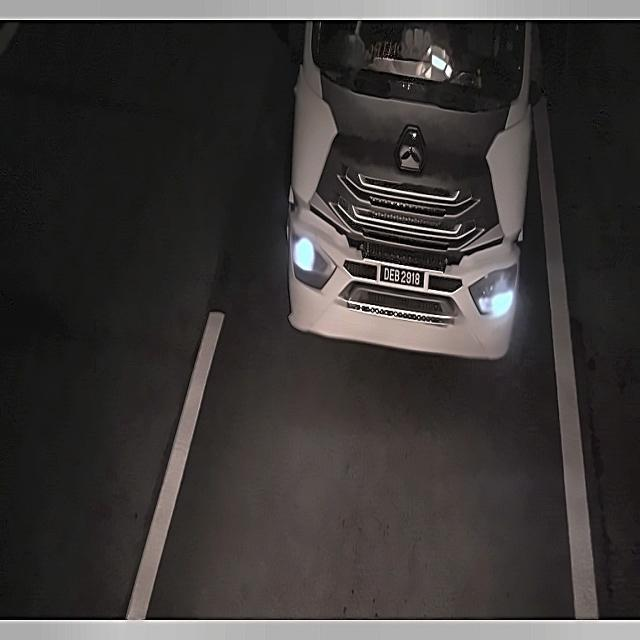car: (374, 256, 434, 299)
